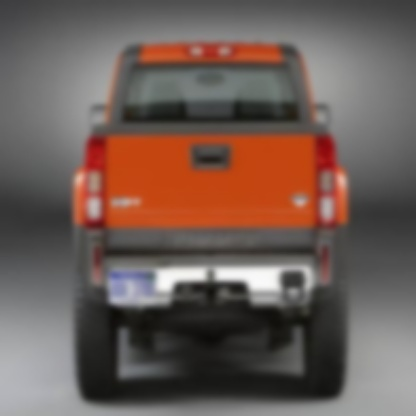Vehicle: (57, 28, 364, 415)
